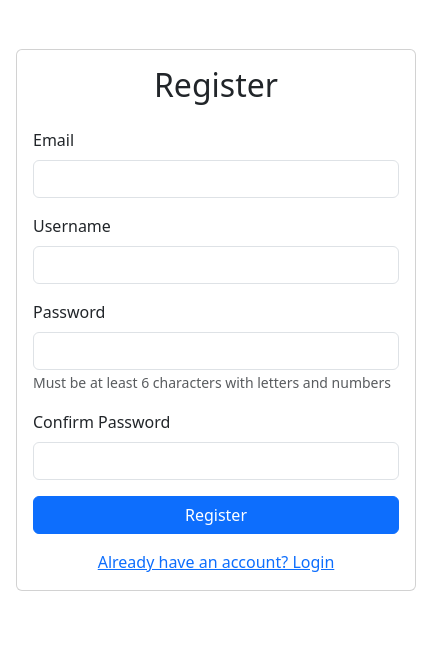
Register Component › displays error message on registration failure
Type "test@example.com" into the field labelled "Email". click: coordinates (216, 179)
box: [33,160,399,198]
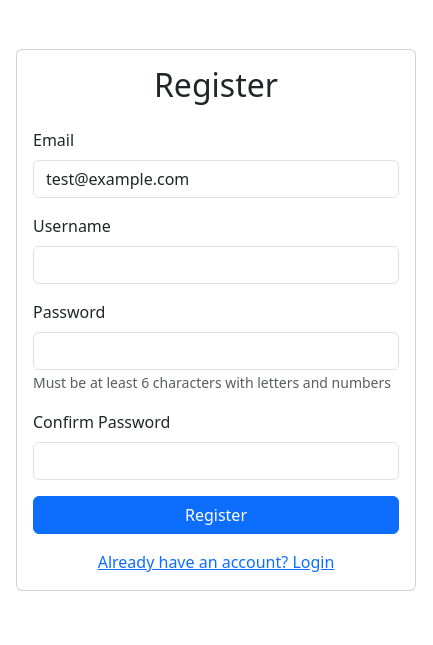
Type "testuser" into the field labelled "Username". click: coordinates (216, 265)
box: [33,246,399,284]
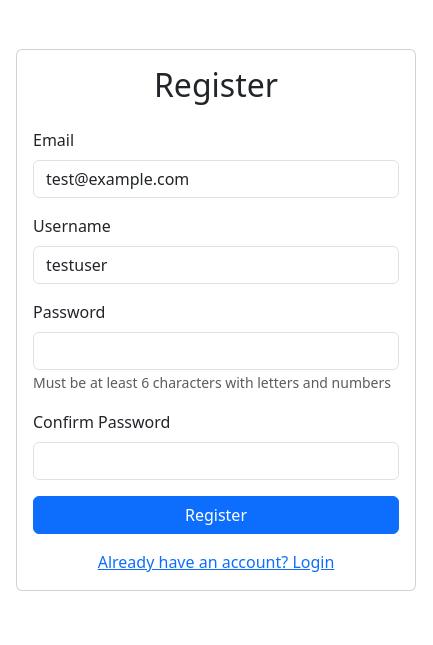
Type "password123" into the password field labelled "Password". click: coordinates (216, 351)
box: [33,332,399,370]
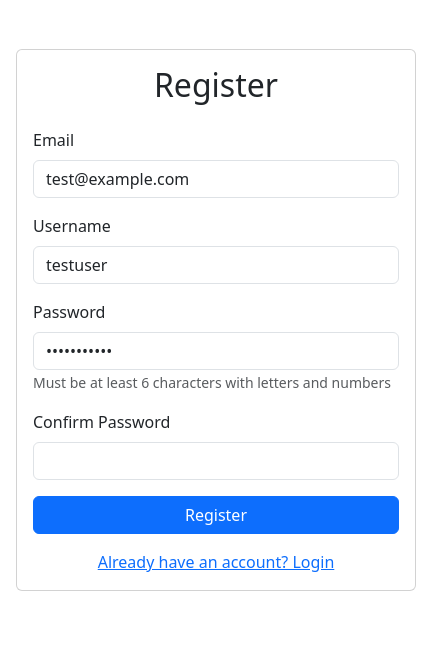
Type "password123" into the password field labelled "Confirm Password". click: coordinates (216, 461)
box: [33,442,399,480]
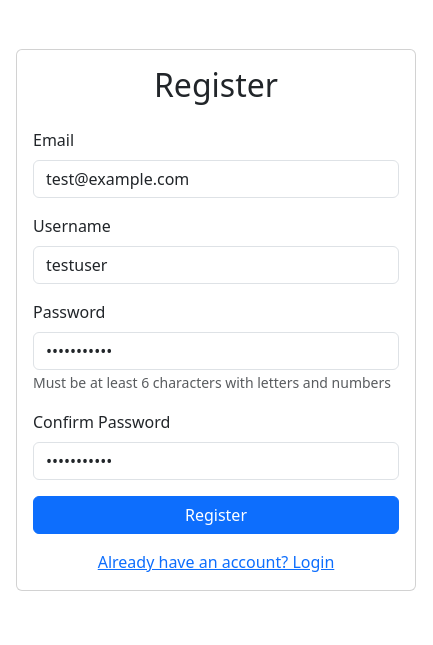
Click the button "Register". click: coordinates (216, 515)
box: [33,496,399,534]
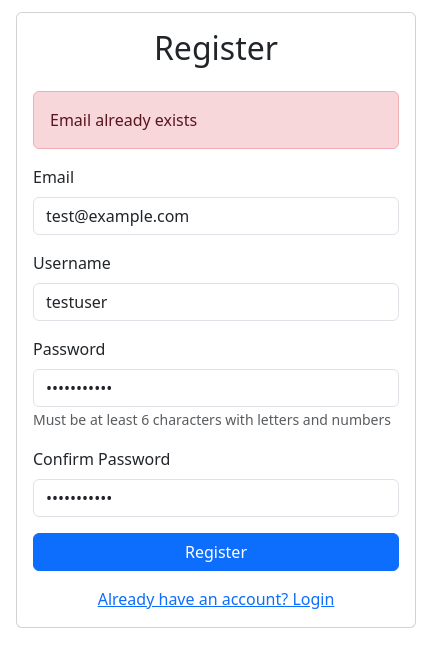
Expected: the text "Email already exists" is shown, [33,91,399,149]
